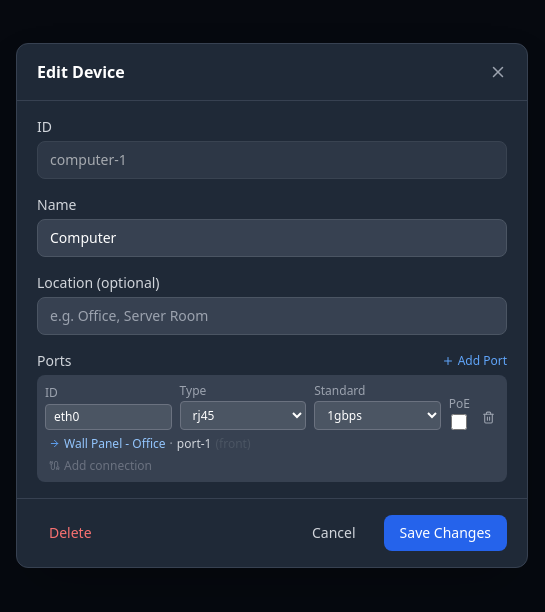
Test: EntityForm — save › shows an error when the save fails
This screenshot has width=545, height=612.
What coordinates should you click on to do the following:
click the button "Save Changes"
I would click on:
 (445, 532)
Its box is [384,514,507,550].
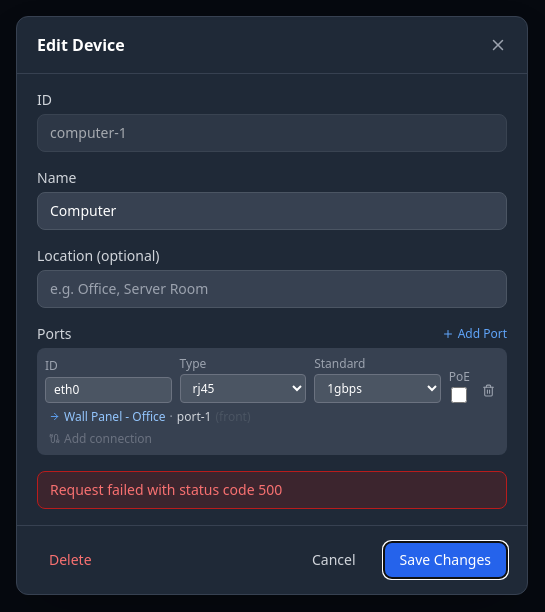
Expected: the text "Request failed with status code 500" is shown, [37,470,507,508]
